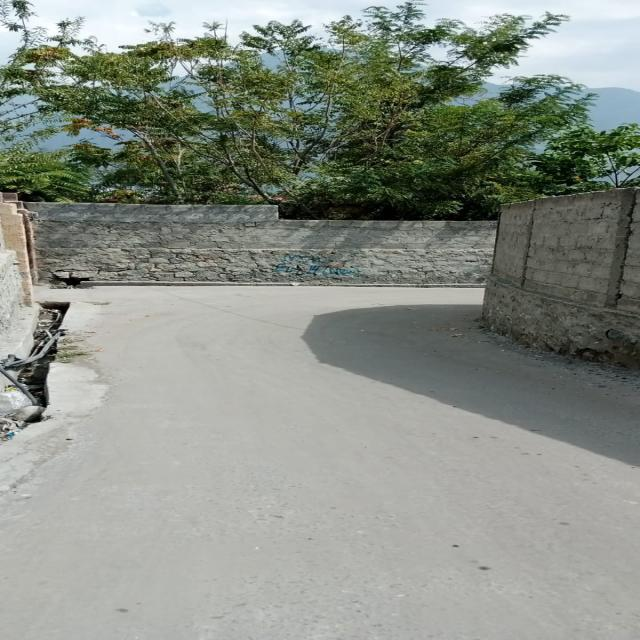Right-Turn: (246, 281, 489, 375)
